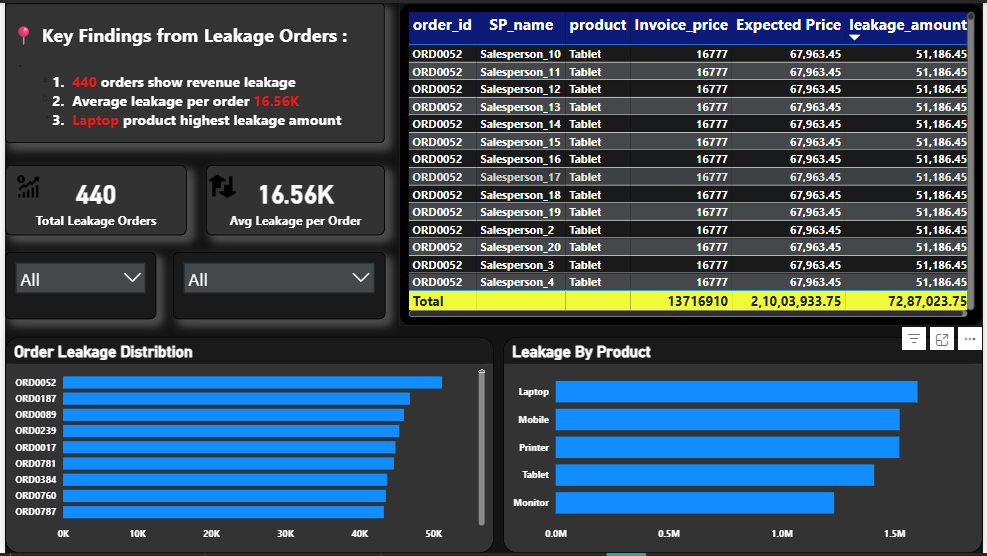

Layout of this report page (visuals, bound fields, positions):
{"tool":"powerbi","page":{"name":"order-Level Leakage Investigation","canvas":[1280,720],"ordinal":2},"visuals":[{"type":"card","title":"Avg leakage Per Order","fields":{"Values":["clean_monthly_price_leakage_2024.Avg Leakage per Order"]},"box":[258.7,11.8,272.1,129.3],"z":0},{"type":"card","title":"Total Leakage Order","fields":{"Values":["clean_monthly_price_leakage_2024.Total Leakage Orders"]},"box":[13.4,11.8,231.8,142.8],"z":1000},{"type":"clusteredBarChart","title":"Leakage By Product","fields":{"Y":["Sum(order_level_leakage.leakage_amount)"],"Category":["order_level_leakage.product"]},"box":[720.6,445.1,544.3,263.7],"z":2000},{"type":"columnChart","title":"Order Leakage Distribtion","fields":{"Y":["Sum(order_level_leakage.leakage_amount)"],"Category":["order_level_leakage.order_id"]},"box":[13.4,445.1,692.1,263.7],"z":3000},{"type":"tableEx","fields":{"Values":["order_level_leakage.order_id","clean_salesperson_risk_summary.salesperson_name","order_level_leakage.product","Sum(order_level_leakage.invoice_price)","Sum(revenue_leakage_orders.allowed_price)","Sum(order_level_leakage.leakage_amount)"]},"box":[547.6,11.8,717.3,423.3],"z":4000},{"type":"slicer","fields":{"Values":["revenue_leakage_orders.salesperson_name"]},"box":[258.4,153.9,271.9,280.8],"z":5000},{"type":"slicer","fields":{"Values":["revenue_leakage_orders.product"]},"box":[13.4,176.4,231.8,258.7],"z":6000}]}

Visuals, with their boxes in screenshot pixels (x1, y1, x2, y2), scaled from the page's 1280x720 canvas onto the 987x556 screenshot:
"Avg leakage Per Order" card: x1=199, y1=9, x2=409, y2=109
"Total Leakage Order" card: x1=10, y1=9, x2=189, y2=119
"Leakage By Product" clusteredBarChart: x1=556, y1=344, x2=975, y2=547
"Order Leakage Distribtion" columnChart: x1=10, y1=344, x2=544, y2=547
tableEx - order_level_leakage.order_id x clean_salesperson_risk_summary.salesperson_name: x1=422, y1=9, x2=975, y2=336
slicer - revenue_leakage_orders.salesperson_name: x1=199, y1=119, x2=409, y2=336
slicer - revenue_leakage_orders.product: x1=10, y1=136, x2=189, y2=336
